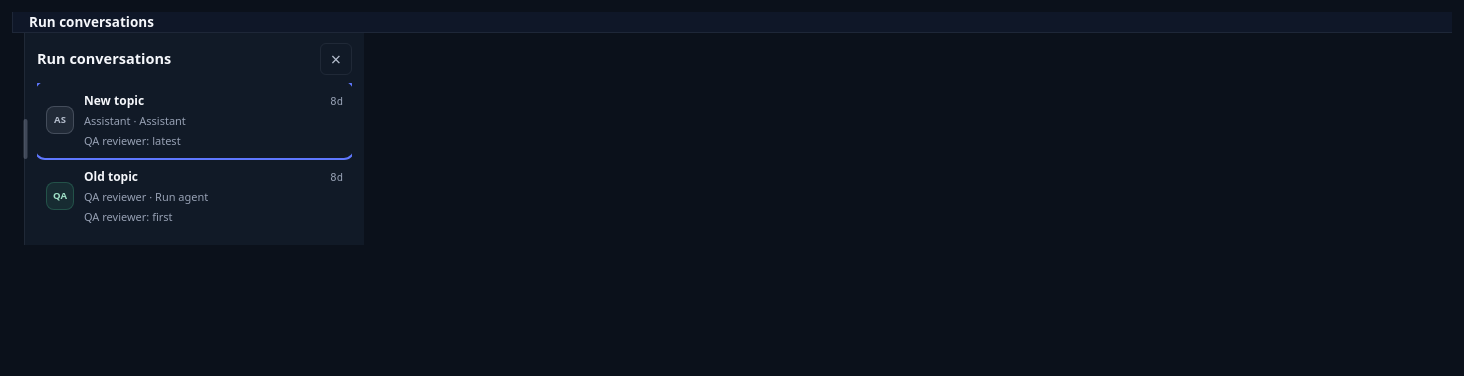
Test: RunConversationsPanel › the typed draft survives Back and re-opening the same conversation
This screenshot has width=1464, height=376.
Step 1. Click the text "Old topic" → [111, 177], box [84,168,138,185]
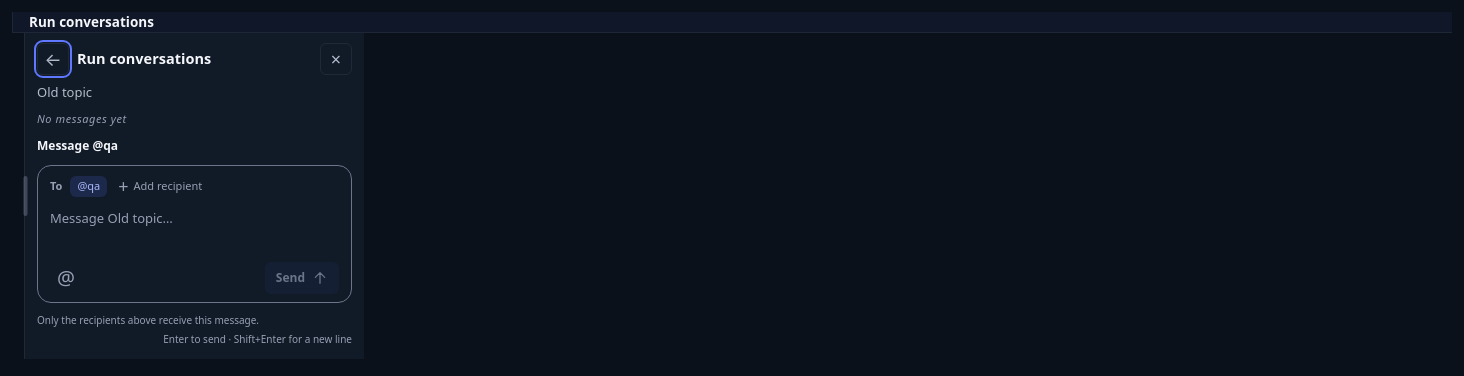
Step 2. Type "half-written" into the dropdown with placeholder "Message Old topic…" → [194, 230], box [50,198,339,262]
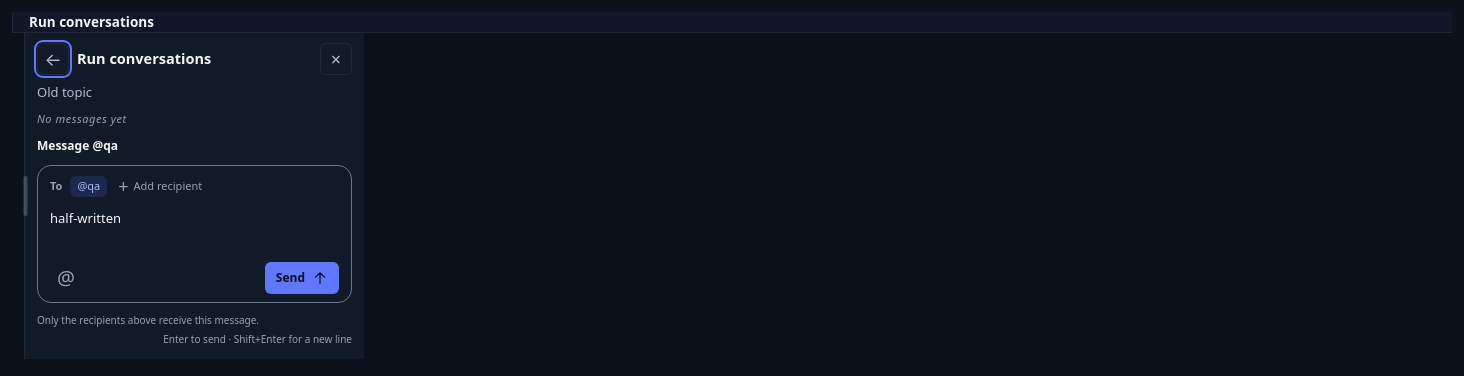
Step 3. Click the button named "Back to conversations" → [53, 59], box [37,43,69,75]
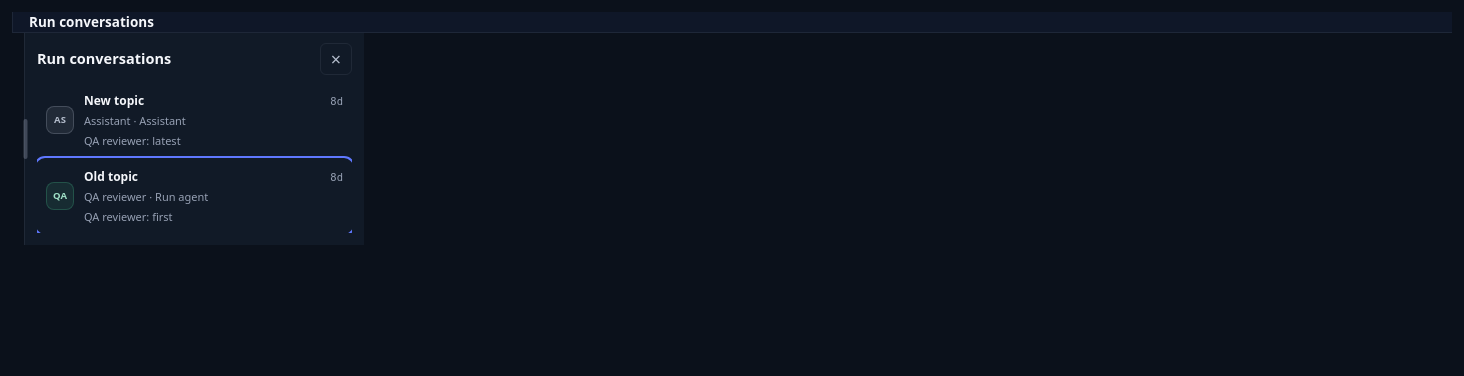
Step 4. Click the text "Old topic" → [111, 177], box [84,168,138,185]
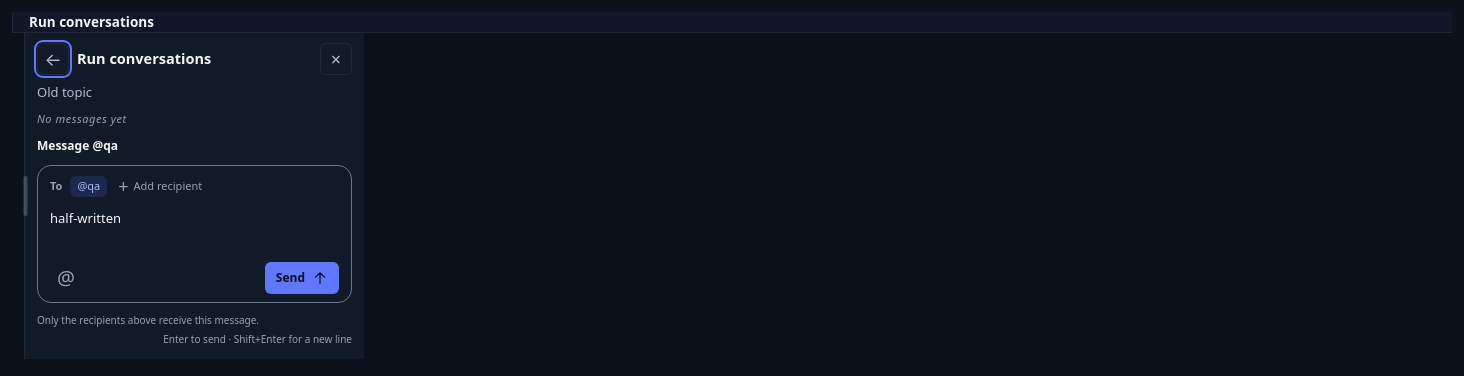
Check: the dropdown with placeholder "Message Old topic…" holds "half-written", box [50,198,339,262]
